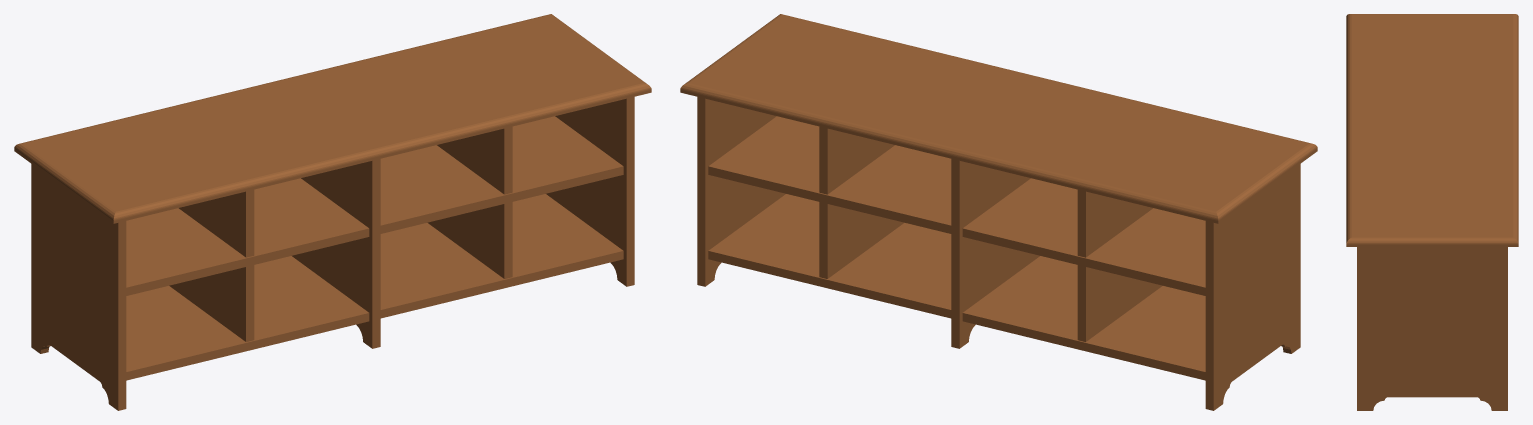
The model's file is stand.glb.
The picture shows the model from 3 angles, left to right: view 1: azimuth 30°, elevation 25°; view 2: azimuth 150°, elevation 25°; view 3: azimuth 270°, elevation 25°; orthographic projection. The views are drawn at different scales.
Parts seen in each view (by area): view 1: Node; view 2: Node; view 3: Node.
Boxes of the visible parts, left/top/right/bottom form: Node: left=14, top=14, right=651, bottom=410; Node: left=680, top=14, right=1317, bottom=410; Node: left=1346, top=14, right=1518, bottom=410.
Bounding box in the file's own units: 50 × 18 × 16.
